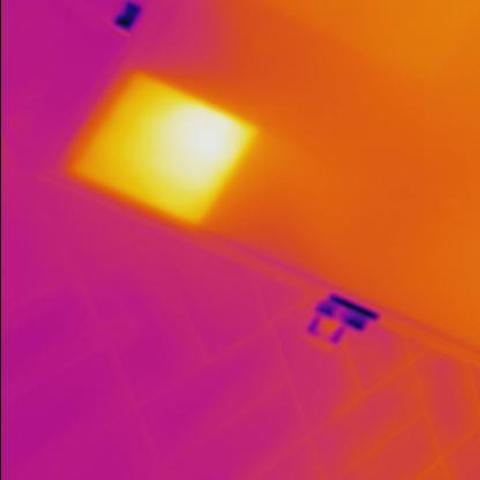fault: (137, 82, 259, 205)
